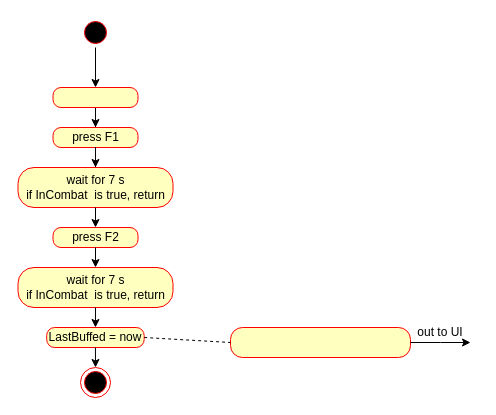
Image size: 496x415. Some labels were removed from this diagram. The shapes that lost their labels are listed below. From the top down, each one's centre as x and y in pixels, then its label:
At pixel 95 97: "stop moving".
At pixel 320 342: "CheckIfActionCanRun LastBuffed > 31? true: false".
